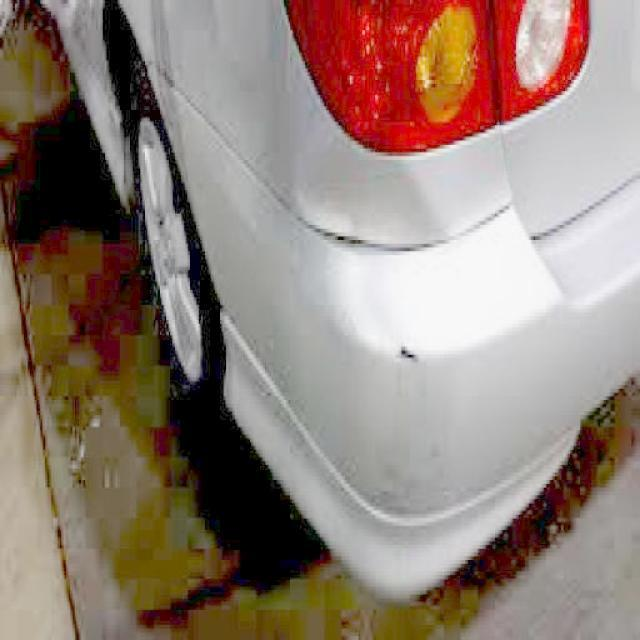car damage: (296, 151, 479, 382), (171, 1, 291, 239)
